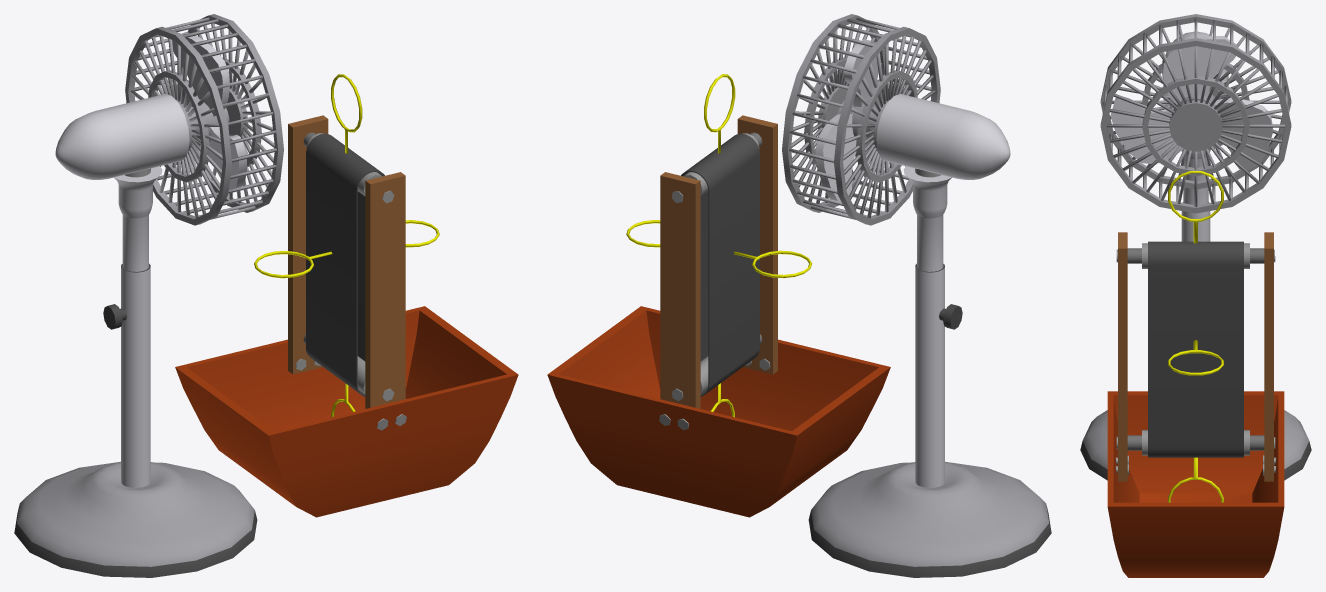
File: Air_smooth.fbx
The picture shows the model from 3 angles, left to right: view 1: azimuth 30°, elevation 25°; view 2: azimuth 150°, elevation 25°; view 3: azimuth 270°, elevation 25°; orthographic projection. The views are drawn at different scales.
Parts seen in each view (by area): view 1: Bowl, Feet, Treadmill, WoodplankLeft, Head, WoodplankRight, ProtectionBack, ProtectionOuter, ProtectionBackOuter, Rotorblades, ProtectionFrontOuter, ProtectionFront (+2 smaller); view 2: Bowl, Feet, Treadmill, WoodplankRight, Head, WoodplankLeft, ProtectionBack, ProtectionOuter, ProtectionBackOuter, Rotorblades, ProtectionFrontOuter, ProtectionFront (+2 smaller); view 3: Bowl, Treadmill, ProtectionFront, Rotorblades, ProtectionFrontOuter, Feet, ProtectionBackOuter, WoodplankLeft, WoodplankRight, ProtectionFrontMiddle, ProtectionFrontInner, ProtectionOuter (+7 smaller).
Boxes of the visible parts, x1,y1,x2,y2 form: Bowl: (175,306,518,517); Feet: (14,166,257,577); Treadmill: (306,133,384,396); WoodplankLeft: (365,172,405,408); Head: (55,94,189,179); WoodplankRight: (288,115,328,374); ProtectionBack: (130,35,222,218); ProtectionOuter: (134,17,276,219); ProtectionBackOuter: (125,26,231,225); Rotorblades: (172,32,246,189); ProtectionFrontOuter: (181,14,283,212); ProtectionFront: (186,23,274,203); Bowl: (547,306,890,517); Feet: (808,166,1051,577); Treadmill: (681,133,759,396); WoodplankRight: (660,172,700,408); Head: (876,94,1010,179); WoodplankLeft: (737,115,777,374); ProtectionBack: (843,35,935,218); ProtectionOuter: (789,17,931,219); ProtectionBackOuter: (834,26,940,225); Rotorblades: (815,39,916,201); ProtectionFrontOuter: (782,14,884,212); ProtectionFront: (791,23,881,203); Bowl: (1107,391,1284,577); Treadmill: (1148,241,1243,457); ProtectionFront: (1106,46,1285,207); Rotorblades: (1110,36,1272,170); ProtectionFrontOuter: (1100,38,1291,213); Feet: (1080,149,1311,480); ProtectionBackOuter: (1100,14,1291,189); WoodplankLeft: (1118,232,1127,481); WoodplankRight: (1264,232,1273,481); ProtectionFrontMiddle: (1142,76,1249,175); ProtectionFrontInner: (1169,100,1222,151); ProtectionOuter: (1102,18,1289,204).
Size of the model in its own units: 375 by 390 by 180.
